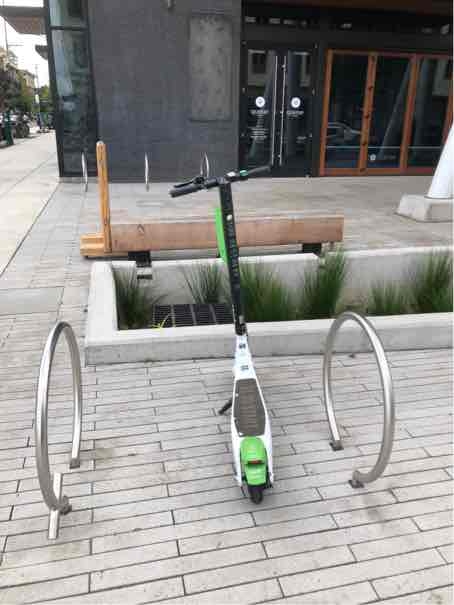scooter: (165, 155, 312, 497)
